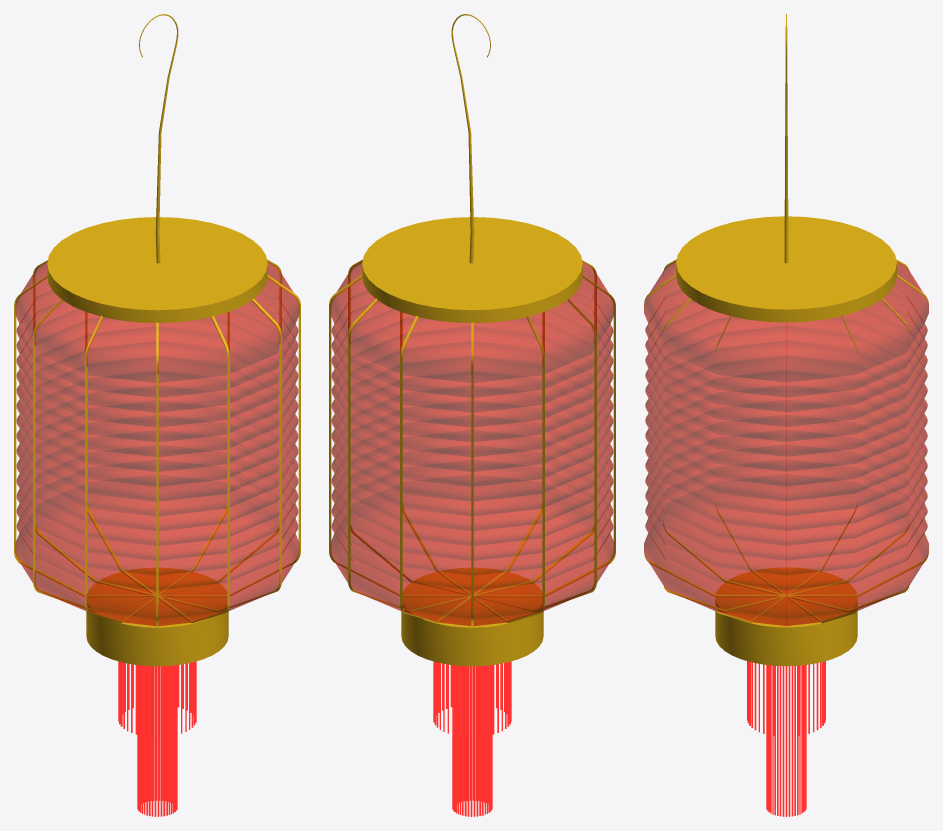
Rendered from chinese_lantern.glb.
3 renders of one model, left to right at view 1: azimuth 30°, elevation 25°; view 2: azimuth 150°, elevation 25°; view 3: azimuth 270°, elevation 25°, orthographic.
Visible parts, largest first — view 1: Object_2, Object_4, Object_3, Object_6; view 2: Object_2, Object_4, Object_3, Object_6; view 3: Object_2, Object_4, Object_3, Object_6.
Part boxes in pixels (box(x1,y1,x2,y2)): Object_2: box(15, 261, 299, 625); Object_4: box(14, 217, 300, 666); Object_3: box(118, 661, 196, 816); Object_6: box(139, 14, 178, 263); Object_2: box(330, 261, 614, 625); Object_4: box(329, 217, 615, 666); Object_3: box(433, 661, 511, 816); Object_6: box(451, 14, 490, 263); Object_2: box(644, 261, 928, 625); Object_4: box(644, 216, 928, 666); Object_3: box(747, 661, 825, 816); Object_6: box(784, 14, 788, 263).
Size of the model in its own units: 0.3213 by 0.9786 by 0.3181.
